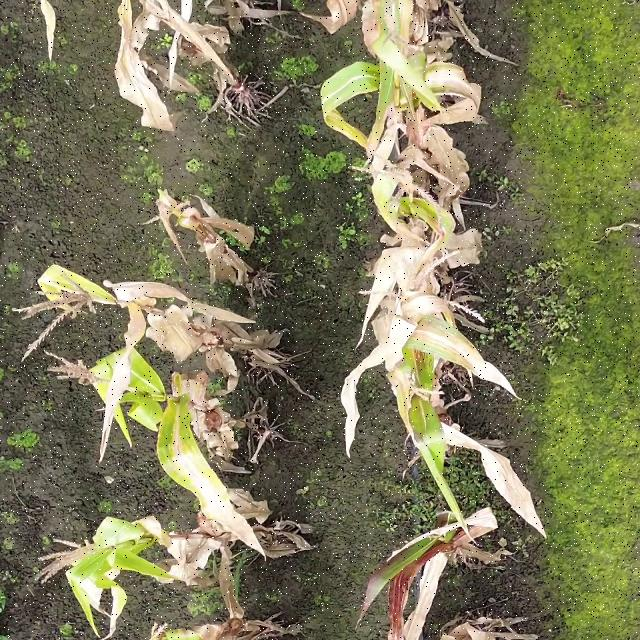northern-leaf-blight: (164, 400, 267, 580)
